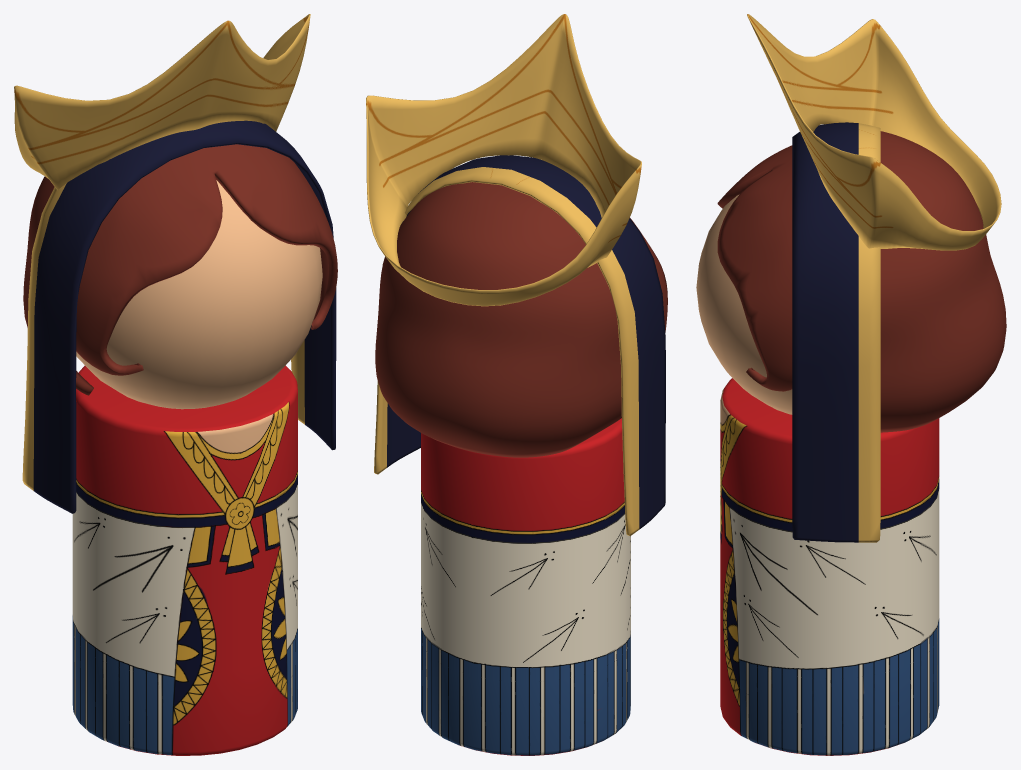
The model's file is queenofhearts.glb.
3 renders of one model, left to right at view 1: azimuth 30°, elevation 25°; view 2: azimuth 150°, elevation 25°; view 3: azimuth 270°, elevation 25°, orthographic. The views are drawn at different scales.
Parts seen in each view (by area): view 1: Cylinder, Sphere, Plane, Sphere.001, Plane.001; view 2: Cylinder, Sphere.001, Plane.001, Plane; view 3: Cylinder, Sphere.001, Plane, Plane.001, Sphere.
Part boxes in pixels (<box>): Cylinder: <box>72,365,297,755</box>; Sphere: <box>76,180,322,409</box>; Plane: <box>22,120,336,513</box>; Sphere.001: <box>23,144,337,395</box>; Plane.001: <box>14,14,310,190</box>; Cylinder: <box>421,418,630,755</box>; Sphere.001: <box>375,182,667,457</box>; Plane.001: <box>366,14,641,306</box>; Plane: <box>374,155,665,535</box>; Cylinder: <box>720,378,939,755</box>; Sphere.001: <box>717,131,1006,432</box>; Plane: <box>792,122,880,542</box>; Plane.001: <box>747,14,1001,250</box>; Sphere: <box>696,194,792,414</box>.
Bounding box in the file's own units: 3.02 × 7.03 × 2.83.
Materials: 5 (2 with a texture image).
